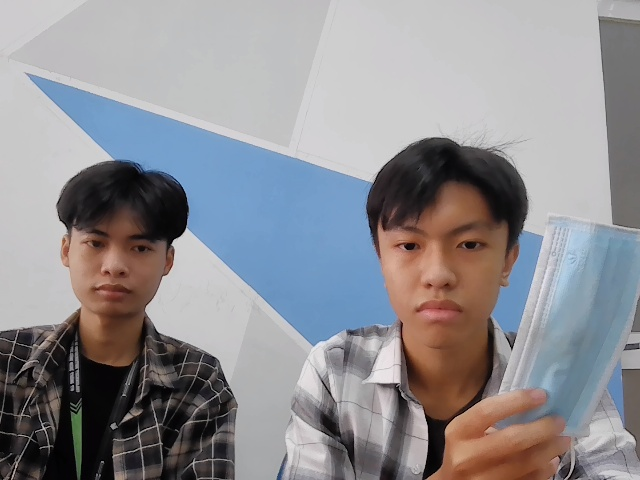human: (366, 134, 529, 356), (54, 160, 193, 321)
mask: (492, 213, 640, 439)
